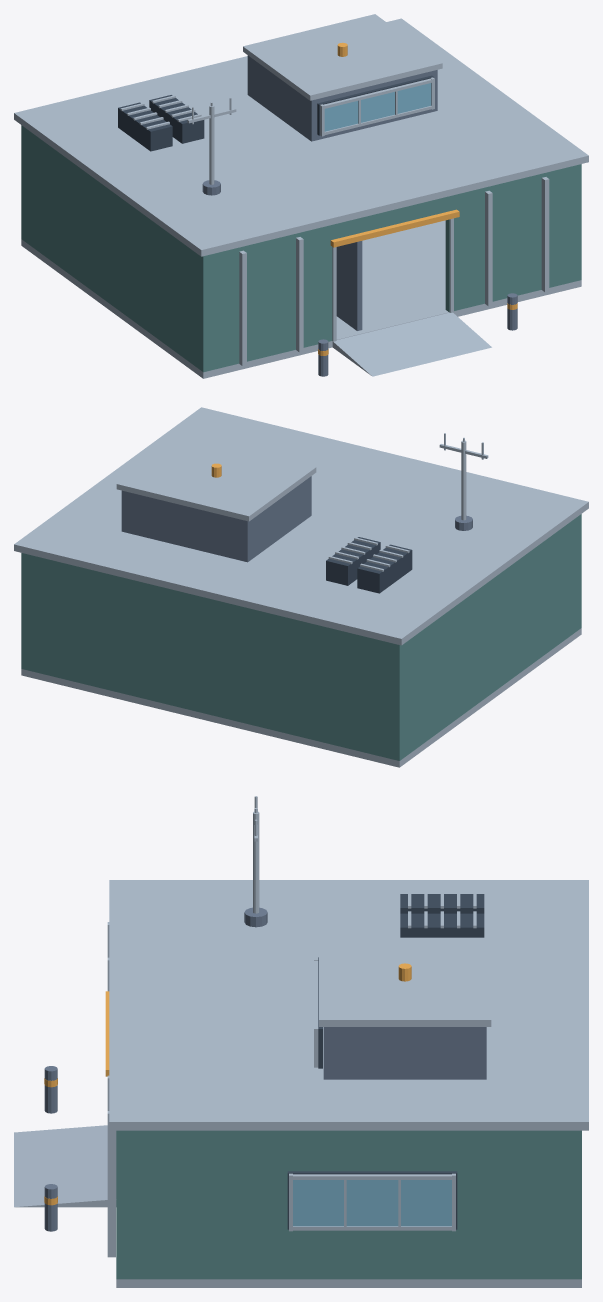
3 renders of one model, top to bottom at view 1: azimuth 30°, elevation 25°; view 2: azimuth 150°, elevation 25°; view 3: azimuth 270°, elevation 25°, orthographic. The views are drawn at different scales.
Parts seen in each view (by area): view 1: Base roof, Wall left, Wall front right, Wall front left, Base floor, Control room roof, Entry ramp, Rooftop control room, Blue window pane.001, Equipment partition front, Door lintel, Vent housing (+9 smaller); view 2: Base roof, Wall rear, Wall left, Control room roof, Rooftop control room, Base floor, Vent housing, Vent housing.001, Wall right, Communications mast; view 3: Base roof, Wall right, Control room roof, Rooftop control room, Blue window pane, Entry ramp, Base floor, Vent housing.001, Vent housing, Armored facade rib.003, Window sill / lintel.001, Window recess (+2 smaller).
Part boxes in pixels (x1,y1,x2,y2): Base roof: [14, 18, 588, 256]; Wall left: [21, 125, 209, 372]; Wall front right: [445, 165, 575, 312]; Wall front left: [209, 224, 335, 370]; Base floor: [21, 220, 581, 378]; Control room roof: [243, 14, 442, 100]; Entry ramp: [332, 312, 491, 376]; Rooftop control room: [247, 55, 437, 141]; Blue window pane.001: [324, 83, 431, 131]; Equipment partition front: [336, 241, 362, 330]; Door lintel: [335, 196, 449, 238]; Vent housing: [118, 102, 172, 151]; Base roof: [14, 407, 588, 645]; Wall rear: [27, 554, 393, 759]; Wall left: [393, 514, 581, 760]; Control room roof: [116, 435, 316, 521]; Rooftop control room: [121, 476, 311, 562]; Base floor: [21, 628, 581, 767]; Vent housing: [357, 544, 412, 593]; Vent housing.001: [326, 537, 380, 585]; Wall right: [21, 553, 27, 670]; Communications mast: [461, 440, 466, 520]; Base roof: [109, 880, 588, 1130]; Wall right: [116, 1130, 581, 1279]; Control room roof: [319, 937, 491, 1026]; Rooftop control room: [323, 1027, 486, 1079]; Blue window pane: [293, 1180, 451, 1226]; Entry ramp: [14, 1125, 116, 1207]; Base floor: [116, 1279, 581, 1287]; Vent housing.001: [400, 913, 484, 937]; Vent housing: [400, 894, 484, 913]; Armored facade rib.003: [107, 1111, 115, 1257]; Window sill / lintel.001: [289, 1174, 455, 1179]; Window recess: [287, 1171, 457, 1229].
Bounding box in the file's own units: 6.18 × 3.35 × 6.17.
